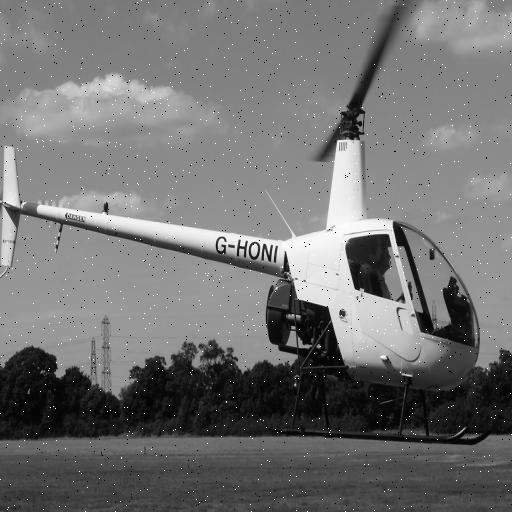helicopter: (1, 1, 500, 448)
